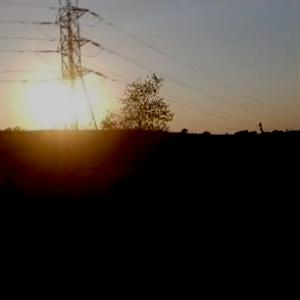follow: (263, 155, 300, 299)
